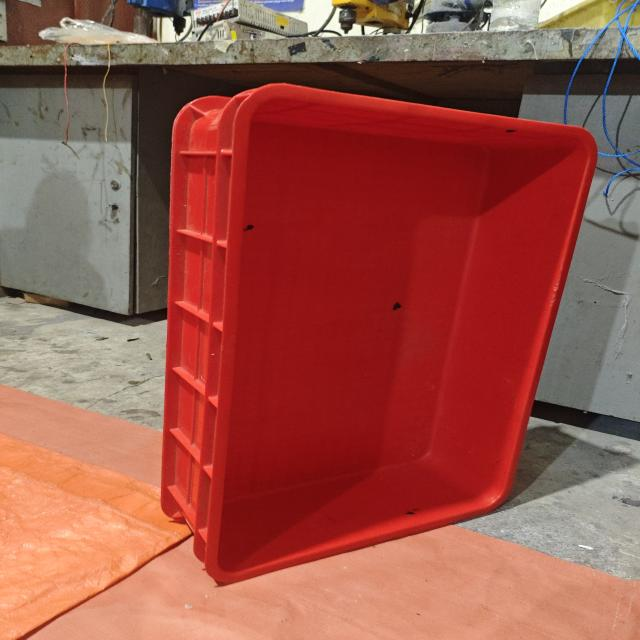red plastic box: (161, 82, 598, 586)
